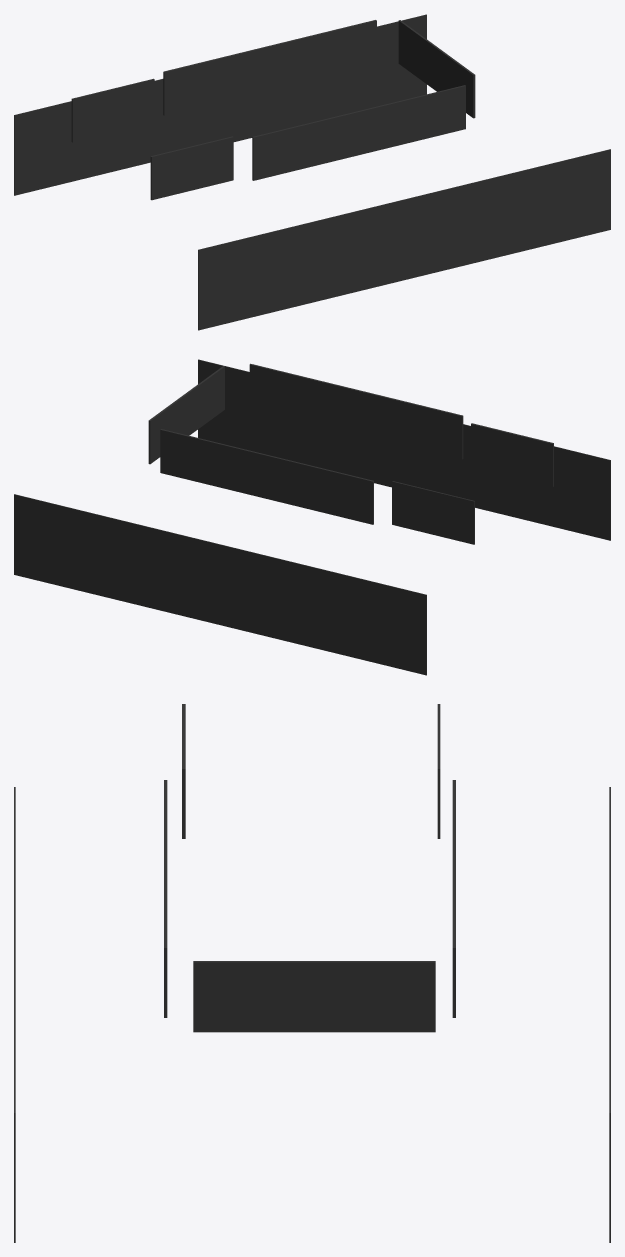
The model's file is ventanas.obj.
The picture shows the model from 3 angles, top to bottom: view 1: azimuth 30°, elevation 25°; view 2: azimuth 150°, elevation 25°; view 3: azimuth 270°, elevation 25°; orthographic projection. The views are drawn at different scales.
Parts seen in each view (by area): view 1: pCube44, pCube43, pasted__pCube23 group60, group60 pasted__pCube14, group60 pasted__pCube24, group60 pasted__pCube19, group60 pasted__pCube18; view 2: pCube43, pCube44, pasted__pCube23 group60, group60 pasted__pCube14, group60 pasted__pCube24, group60 pasted__pCube19, group60 pasted__pCube18; view 3: group60 pasted__pCube18, pasted__pCube23 group60, group60 pasted__pCube14, pCube44, pCube43.
Boxes of the visible parts, x1,y1,x2,y2 form: pCube44: (198,149,610,330); pCube43: (14,14,426,195); pasted__pCube23 group60: (252,85,465,180); group60 pasted__pCube14: (163,20,376,115); group60 pasted__pCube24: (150,136,233,200); group60 pasted__pCube19: (71,78,154,142); group60 pasted__pCube18: (398,20,475,118); pCube43: (14,494,426,675); pCube44: (198,359,610,540); pasted__pCube23 group60: (249,363,463,459); group60 pasted__pCube14: (160,429,373,524); group60 pasted__pCube24: (471,423,553,486); group60 pasted__pCube19: (392,481,474,544); group60 pasted__pCube18: (148,366,224,464); group60 pasted__pCube18: (193,961,435,1032); pasted__pCube23 group60: (164,780,167,1017); group60 pasted__pCube14: (452,780,455,1017); pCube44: (14,787,15,1242); pCube43: (609,787,610,1242).
Size of the model in its own units: 68.83 by 21.38 by 53.31.
1 material, 1 textured.
